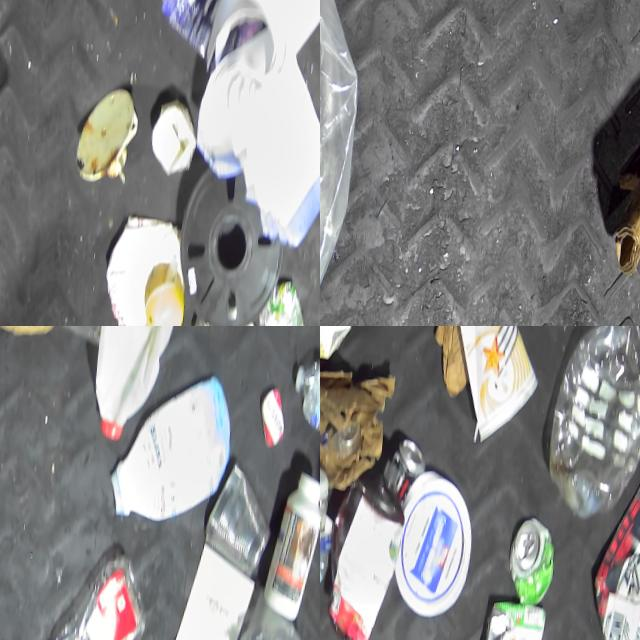can: (200, 458, 276, 576), (504, 513, 556, 604), (475, 595, 545, 640), (255, 274, 313, 326), (384, 436, 426, 505), (189, 296, 260, 326)
milk_jug: (106, 363, 236, 525), (89, 326, 195, 444), (194, 0, 320, 83)
non_white_jug: (320, 473, 406, 640)
plastic_bottle: (542, 326, 640, 521), (45, 546, 152, 640), (289, 354, 320, 430)
